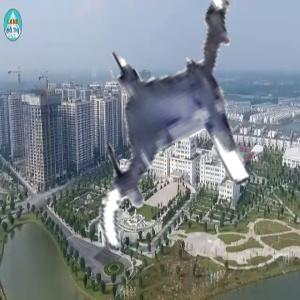drone: (51, 15, 297, 261)
